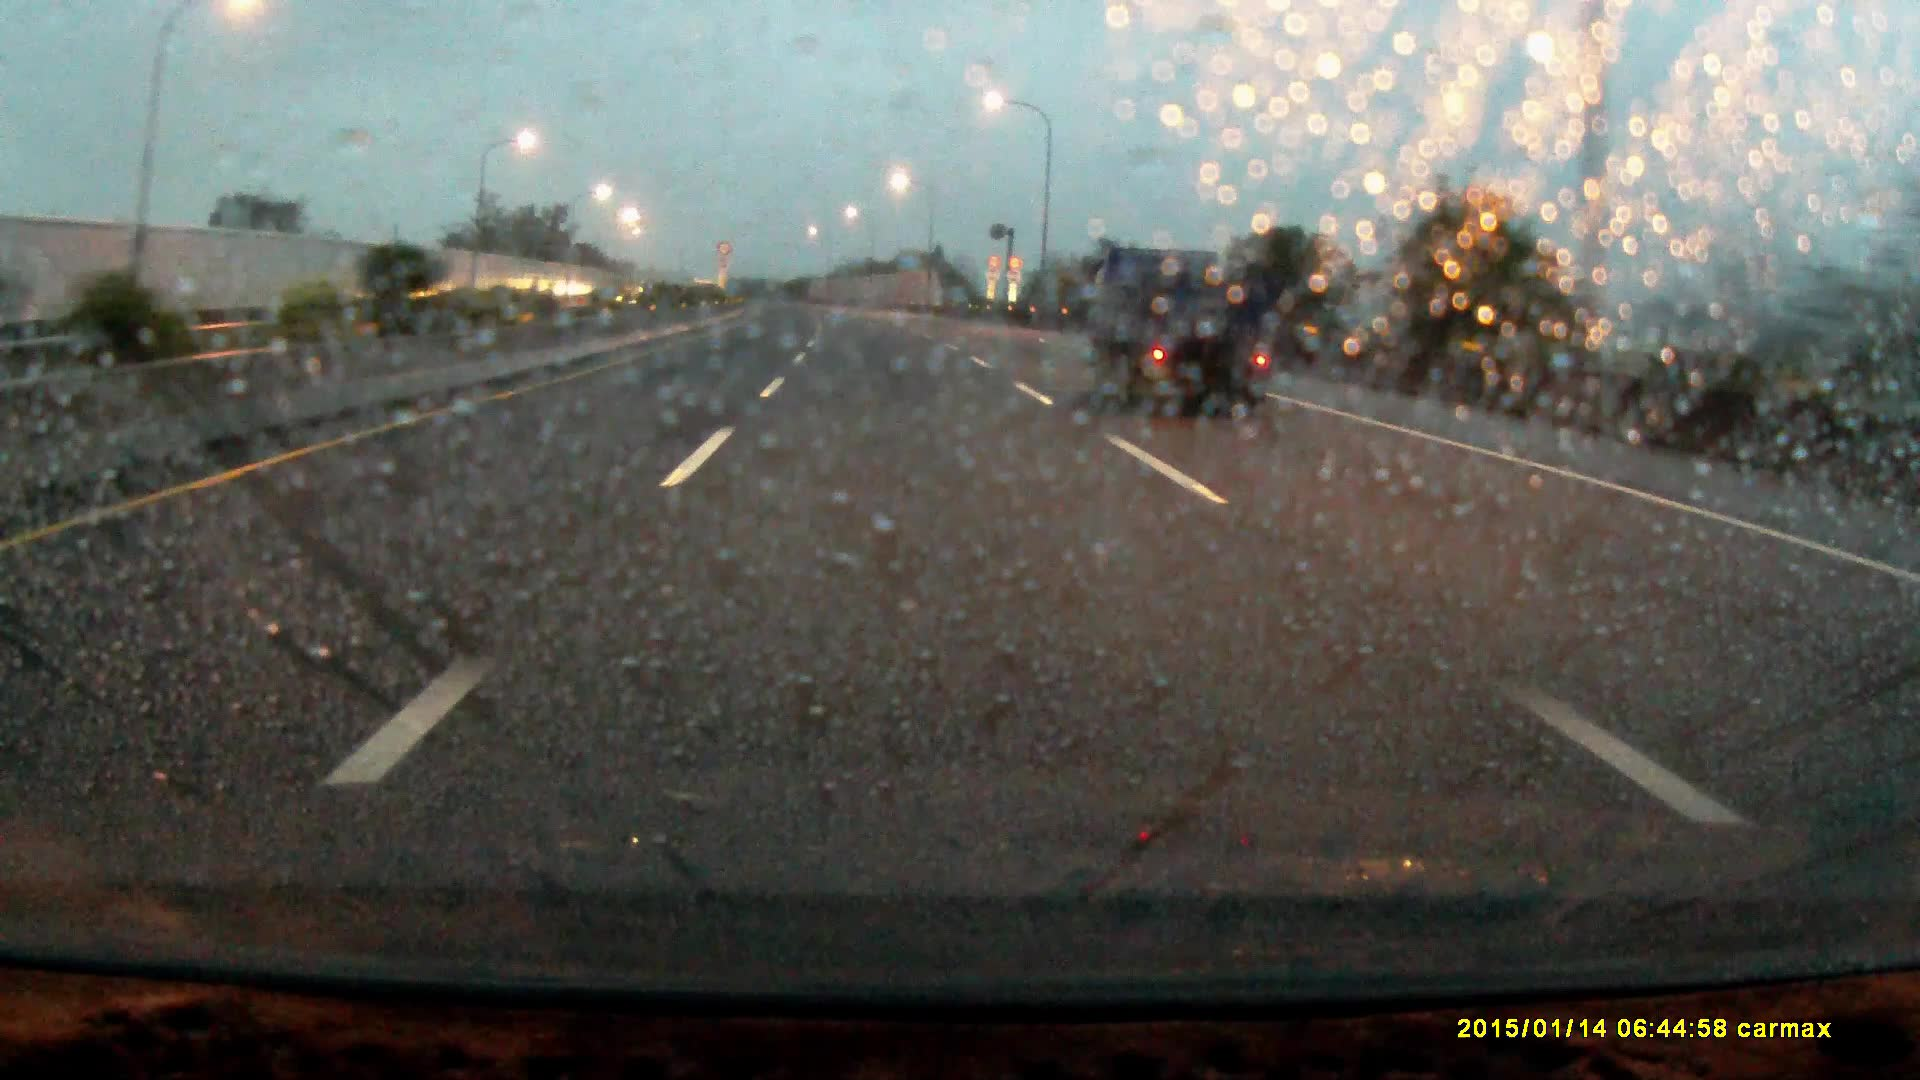vehicle: (1083, 245, 1271, 413)
